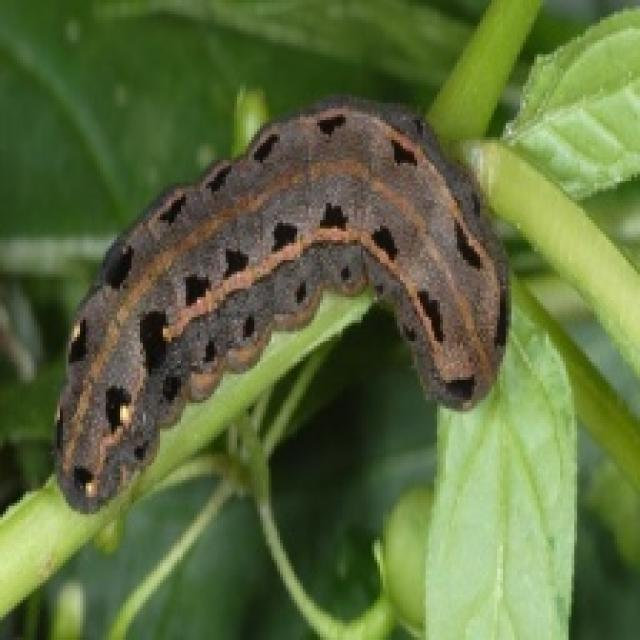Plaga: (35, 93, 518, 519)
